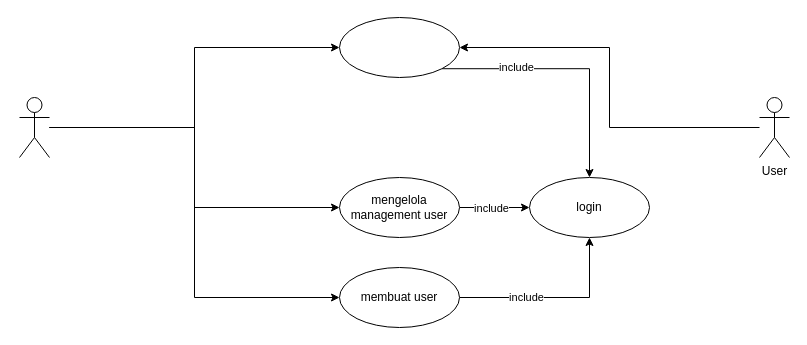
This 807x345 diagram has some shape labels left out. Each missing label, with the centre of its shape:
"Admin" goes at point 34,127.
"mengelola departement" goes at point 399,47.
